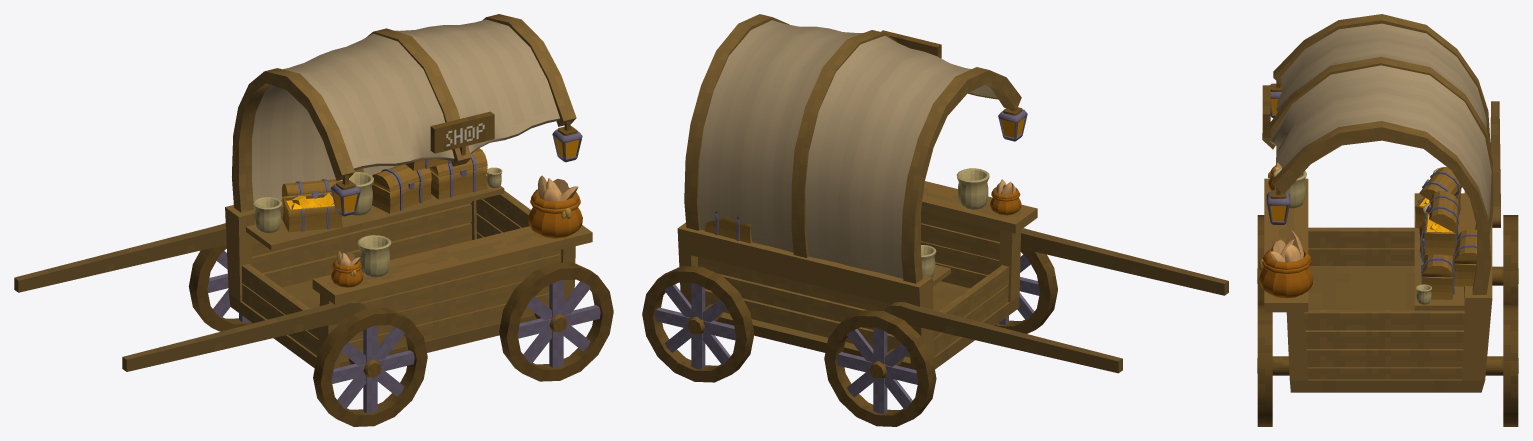
Rendered from Shop.fbx.
3 views of the same model, side by side, from view 1: azimuth 30°, elevation 25°; view 2: azimuth 150°, elevation 25°; view 3: azimuth 270°, elevation 25° (orthographic). The views are drawn at different scales.
Visible parts, largest first — view 1: Shop; view 2: Shop; view 3: Shop.
Boxes of the visible parts, <box> form: Shop: <box>14,14,613,426</box>; Shop: <box>642,14,1228,426</box>; Shop: <box>1257,14,1518,426</box>.
Bounding box in the file's own units: 2.28 × 1.46 × 1.1.
